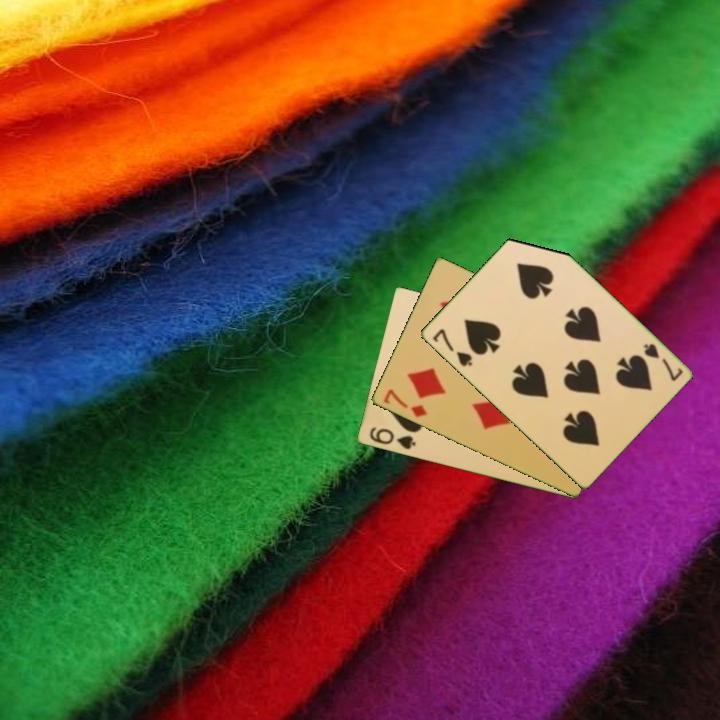6s: (365, 424, 418, 452)
7d: (380, 386, 429, 420)
7s: (429, 325, 475, 370), (639, 340, 686, 384)
